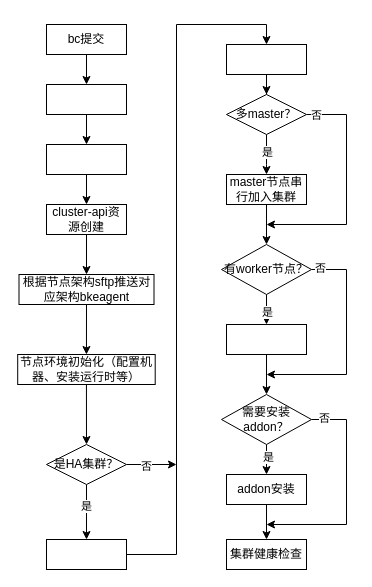
Image size: 372x587. Some labels were removed from this diagram. Here are the shapes that lost their labels. From the top down, the centre of each, then its label:
At [266,59]: "init master节点".
At [86,99]: "设置bc默认值".
At [86,159]: "创建集群证书".
At [266,339]: "worker节点并行加入集群".
At [86,554]: "配置负载均衡器".
